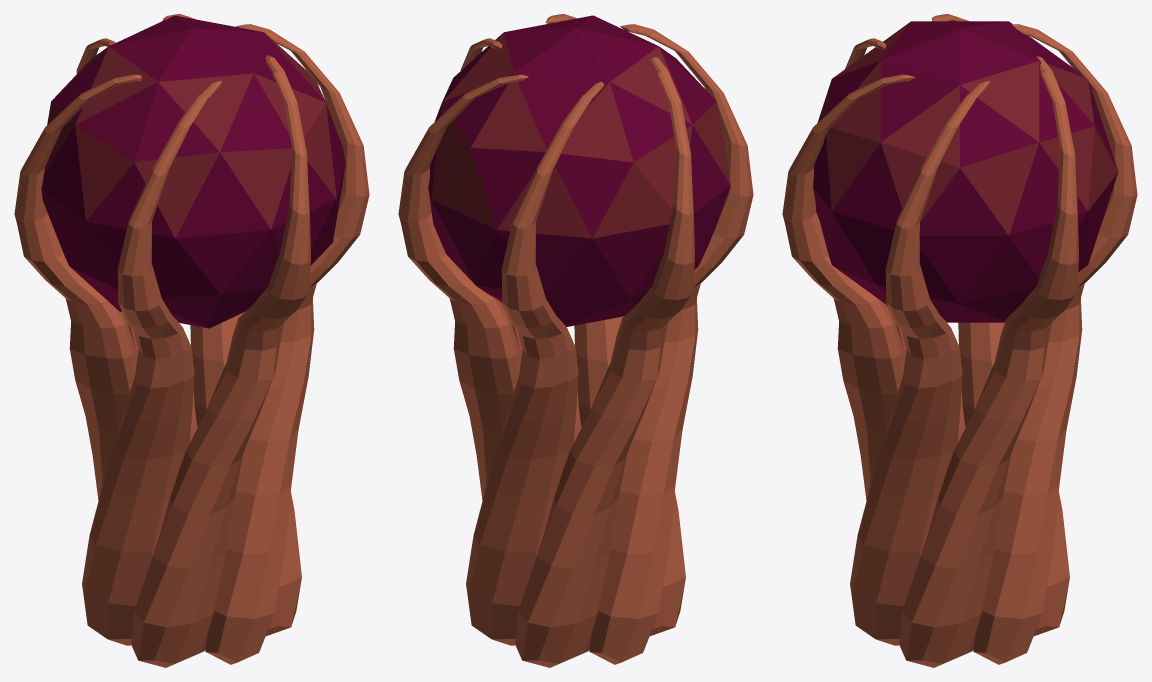
The model's file is Main tree.fbx.
3 views of the same model, side by side, from view 1: azimuth 30°, elevation 25°; view 2: azimuth 150°, elevation 25°; view 3: azimuth 270°, elevation 25° (orthographic).
Visible parts, largest first — view 1: Cylinder, Icosphere; view 2: Cylinder, Icosphere; view 3: Cylinder, Icosphere.
Part boxes in pixels (left/top/right/bottom): Cylinder: left=14, top=14, right=369, bottom=667; Icosphere: left=41, top=15, right=345, bottom=328; Cylinder: left=398, top=14, right=753, bottom=667; Icosphere: left=428, top=15, right=730, bottom=326; Cylinder: left=782, top=14, right=1137, bottom=667; Icosphere: left=813, top=21, right=1118, bottom=322.
Bounding box in the file's own units: 910 × 1829 × 958.
